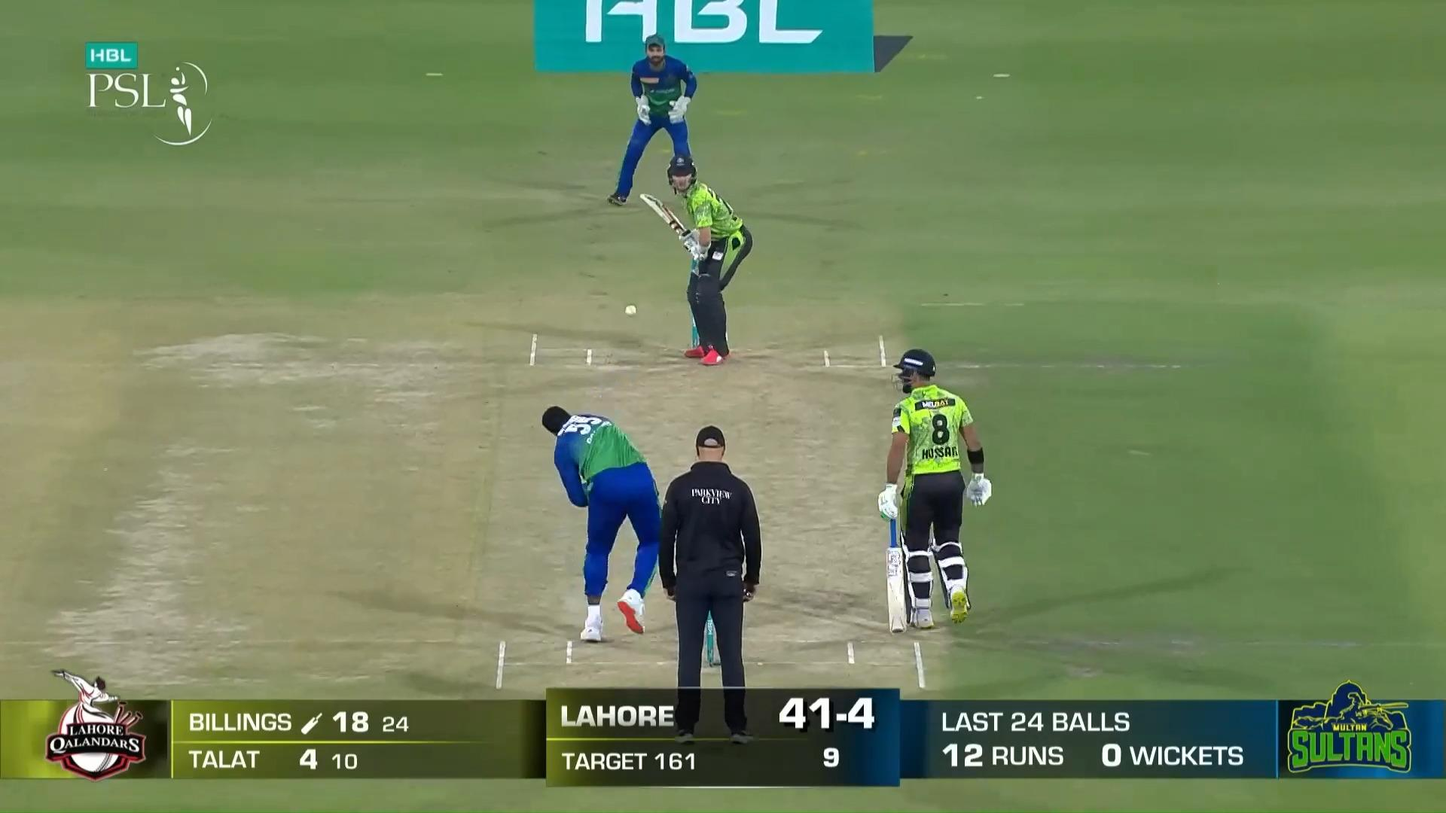batsman: (641, 155, 753, 365)
